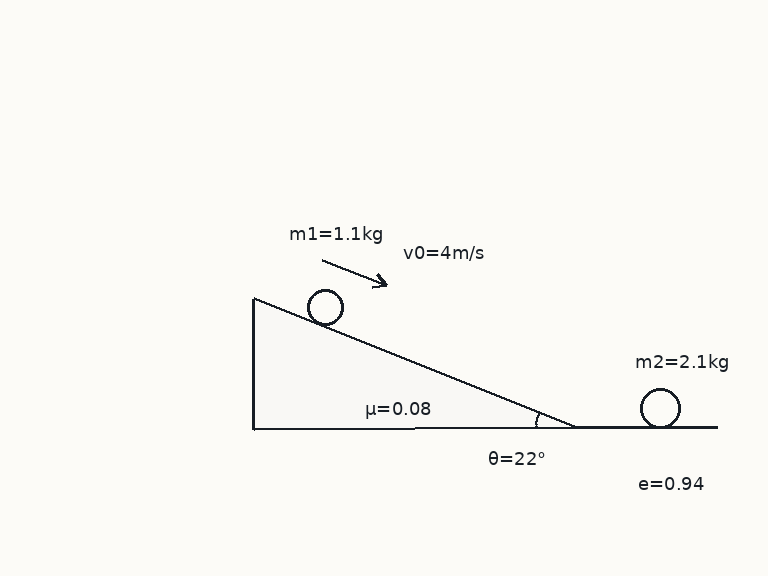ball: (638, 386, 682, 430), (305, 287, 345, 327)
ramp: (251, 296, 578, 430)
